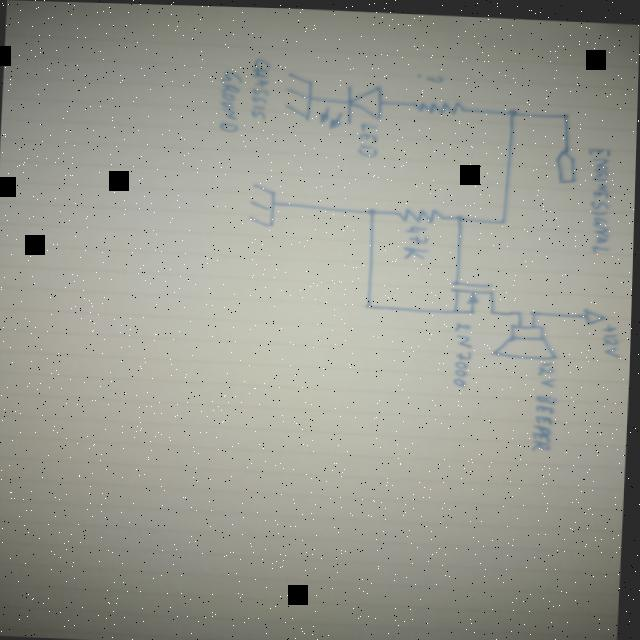diode: (316, 78, 388, 131)
ground: (281, 68, 316, 120), (245, 179, 278, 227)
junction: (505, 104, 519, 115), (365, 205, 379, 214), (364, 298, 376, 308), (454, 211, 466, 219), (498, 215, 508, 223), (561, 109, 571, 115), (530, 307, 540, 313), (516, 307, 525, 313)
resistor: (395, 202, 447, 224), (410, 95, 466, 113)
source: (584, 302, 607, 323)
terminal: (553, 144, 577, 181)
text: (581, 142, 616, 251), (217, 68, 245, 134), (450, 317, 476, 387), (532, 389, 558, 451), (247, 55, 272, 119), (399, 220, 432, 262), (354, 119, 380, 157), (599, 320, 622, 355), (536, 357, 559, 385), (415, 68, 446, 82)
transistor: (448, 275, 499, 316)
